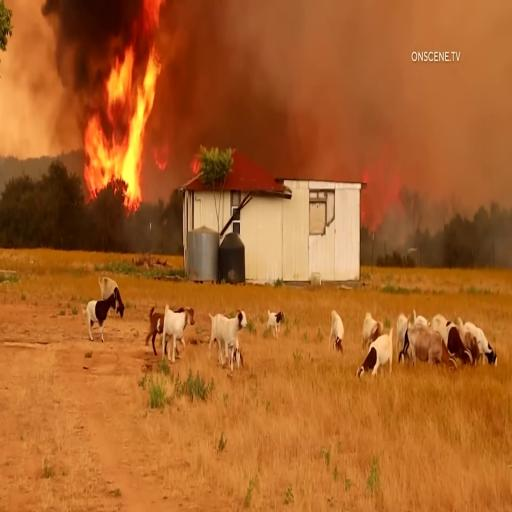fire: (77, 20, 163, 206)
